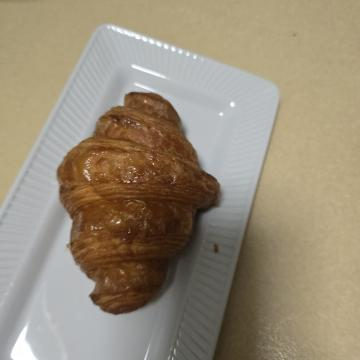croissant: (78, 136, 320, 307)
